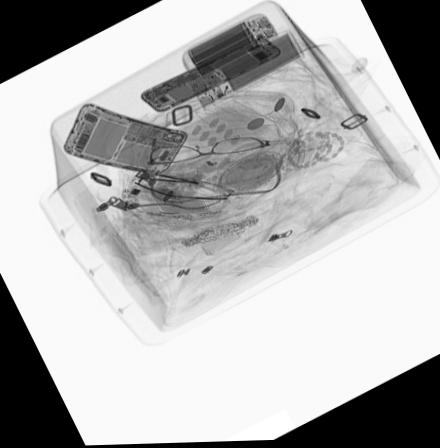Powerbank: (182, 28, 306, 114), (174, 8, 284, 87)
